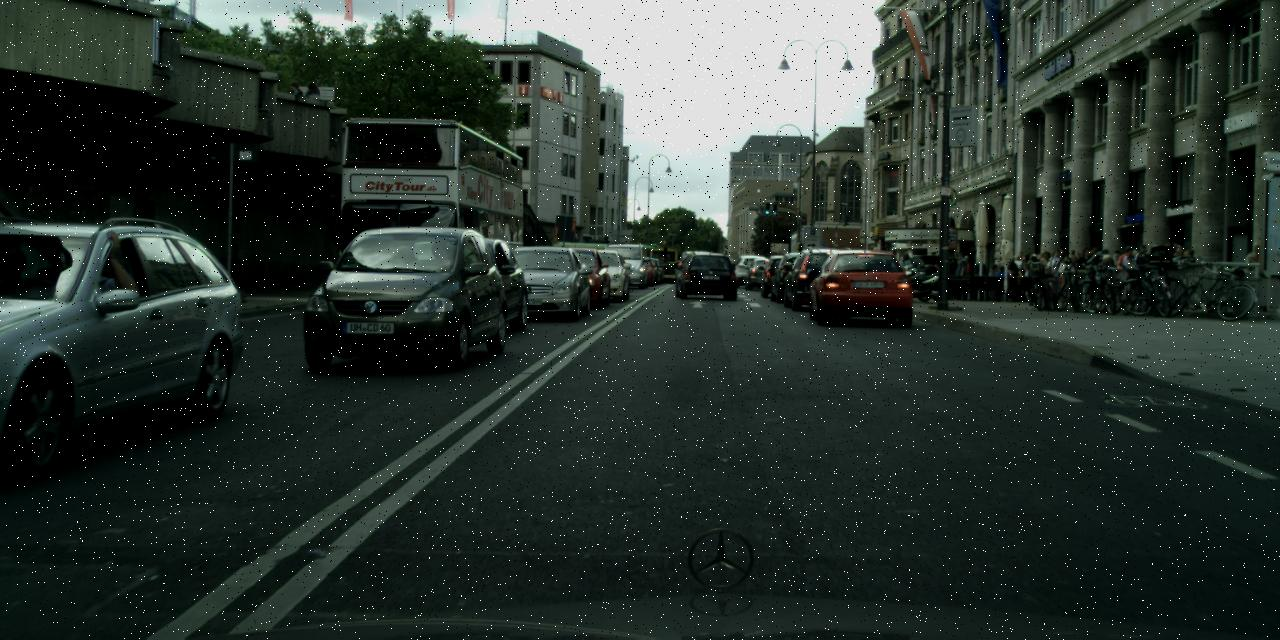ped: (994, 248, 1122, 280), (1244, 241, 1272, 308), (282, 81, 306, 138), (300, 82, 324, 139), (1116, 245, 1138, 298), (1133, 244, 1153, 294), (972, 257, 988, 298), (952, 252, 972, 276), (1031, 284, 1033, 304)
